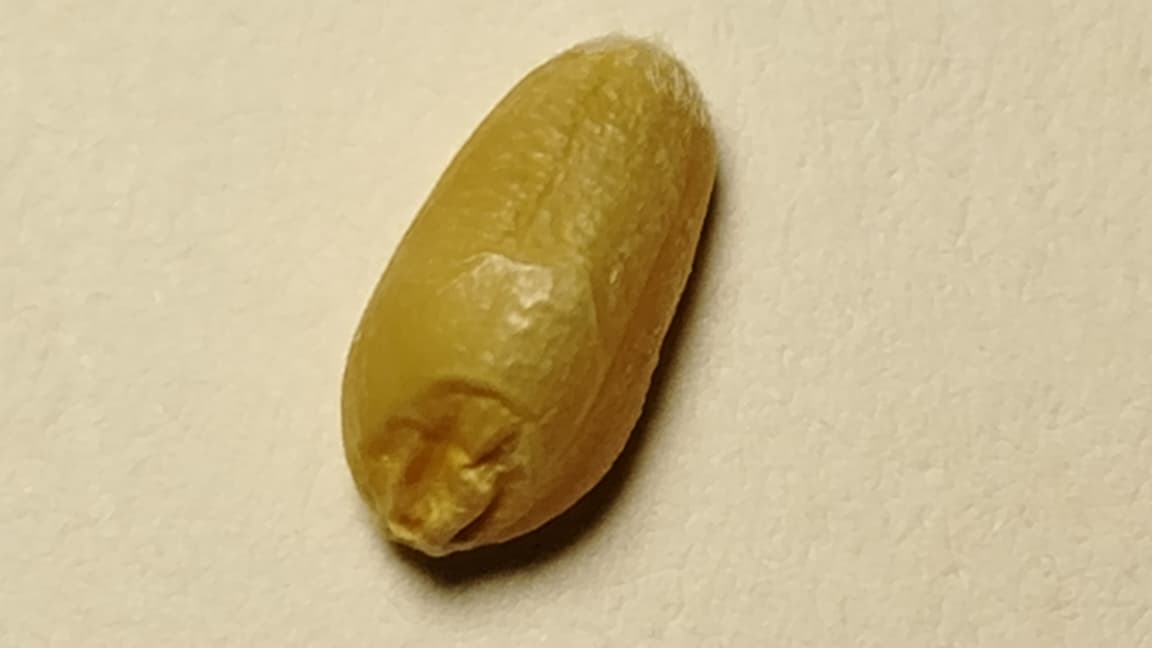healthy: (342, 35, 713, 554)
